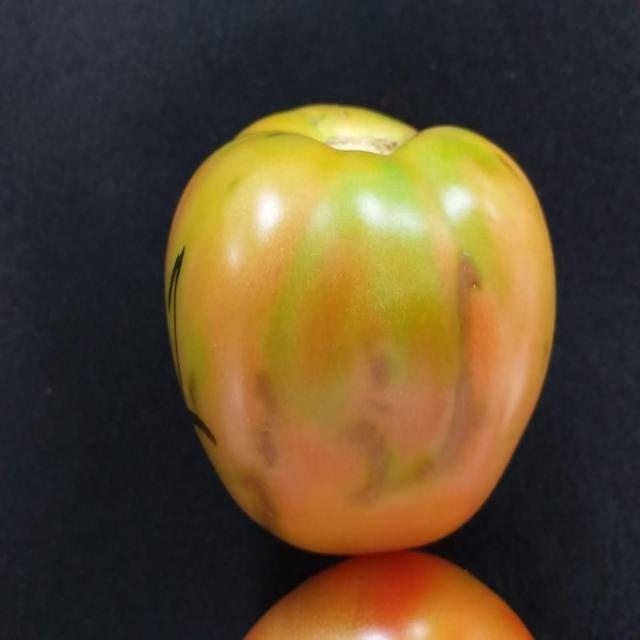T_F_R: (166, 105, 557, 555)
